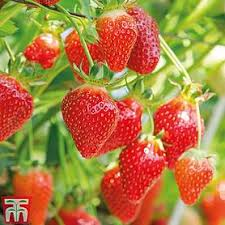ripe: (60, 86, 118, 160), (153, 99, 203, 171), (117, 132, 165, 204), (85, 97, 141, 156), (95, 12, 142, 72), (171, 147, 214, 210), (123, 12, 162, 77), (12, 157, 50, 223), (101, 163, 141, 224), (2, 69, 34, 142), (64, 26, 99, 84), (21, 28, 60, 69)
